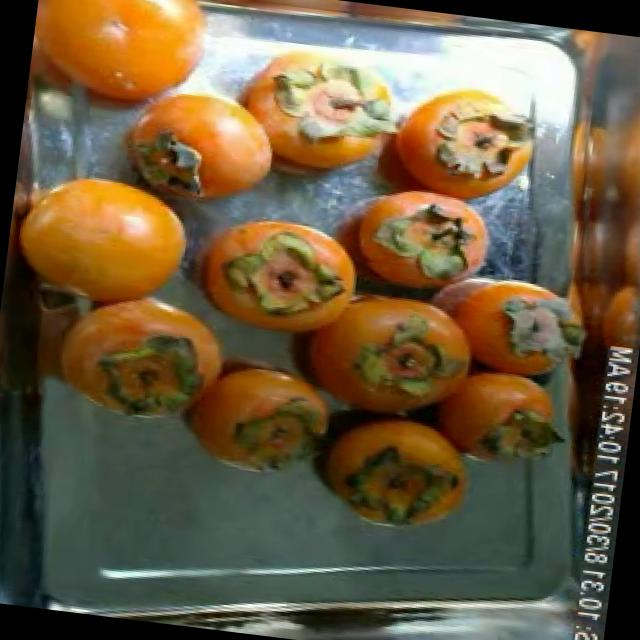Fruit: (0, 162, 216, 335), (160, 337, 352, 499), (298, 404, 490, 544), (389, 68, 558, 206)
